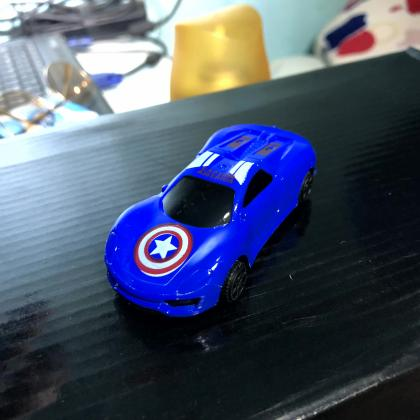Car: (100, 118, 322, 324)
